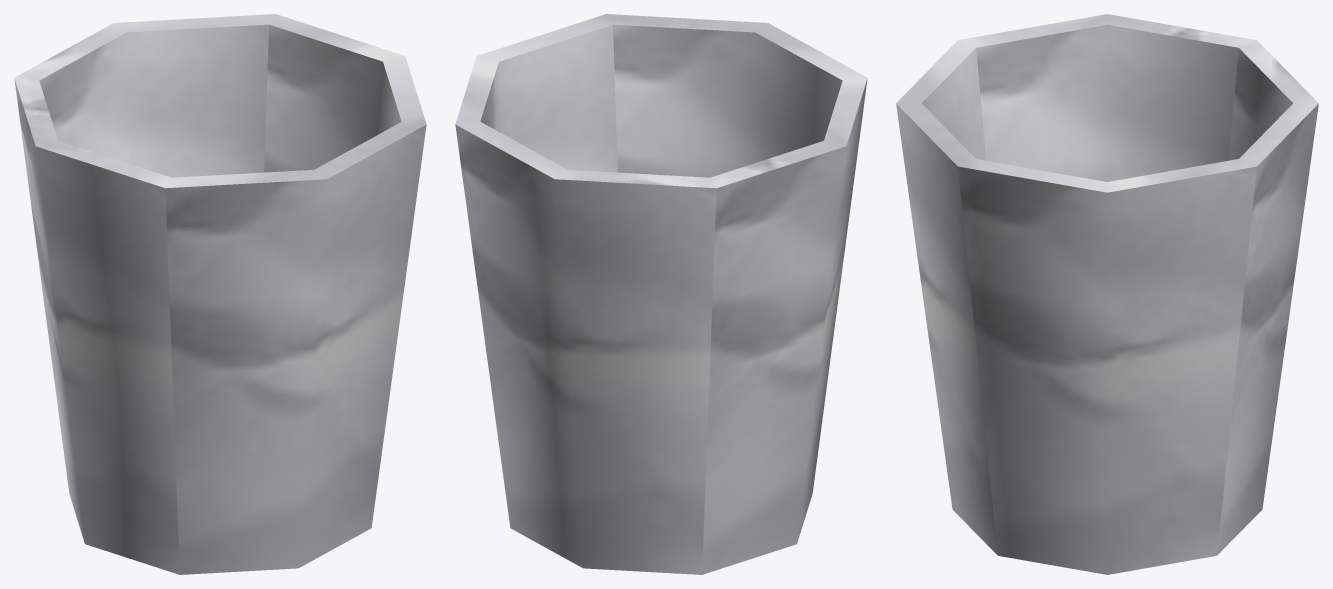
File: cup.FBX
The picture shows the model from 3 angles, left to right: view 1: azimuth 30°, elevation 25°; view 2: azimuth 150°, elevation 25°; view 3: azimuth 270°, elevation 25°; orthographic projection.
Visible parts, largest first — view 1: Cup; view 2: Cup; view 3: Cup.
Boxes of the visible parts, x1,y1,x2,y2 form: Cup: (14, 14, 426, 574); Cup: (455, 14, 867, 574); Cup: (896, 14, 1318, 574).
Bounding box in the file's own units: 0.0267 × 0.0283 × 0.0267.
1 material, 1 textured.
